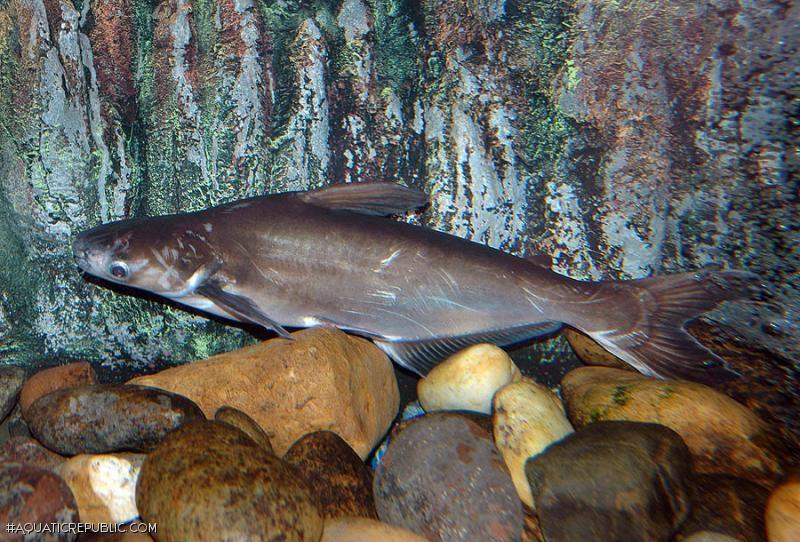Pangasius: (75, 176, 760, 389)
